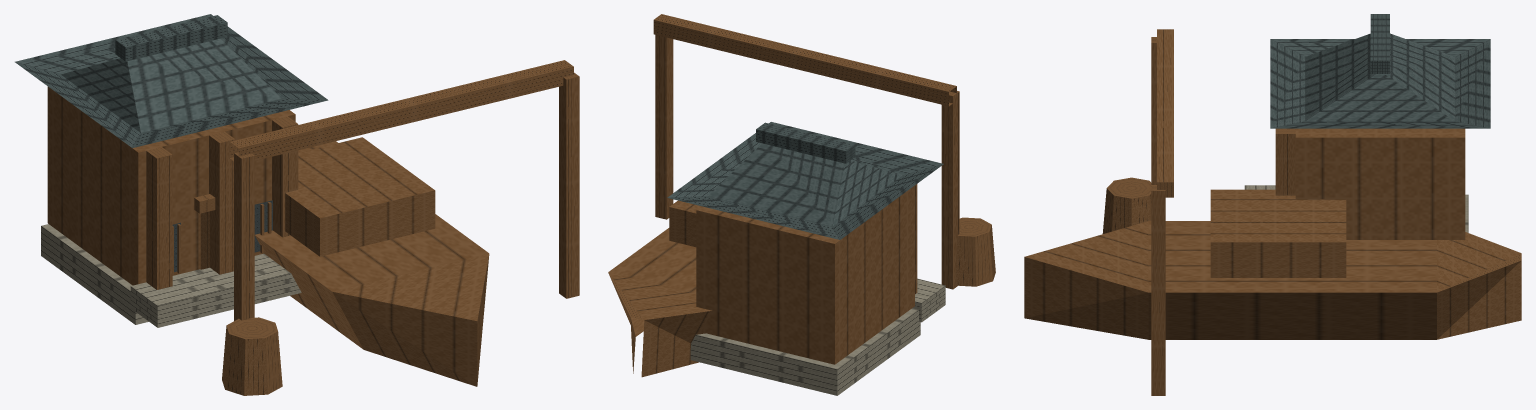
File: domestic-SHIPYARD-1-lod0.glb
3 renders of one model, left to right at view 1: azimuth 30°, elevation 25°; view 2: azimuth 150°, elevation 25°; view 3: azimuth 270°, elevation 25°, orthographic. The views are drawn at different scales.
Size of the model in its own units: 0.7325 by 0.446 by 0.88.
1 material, 1 textured.
